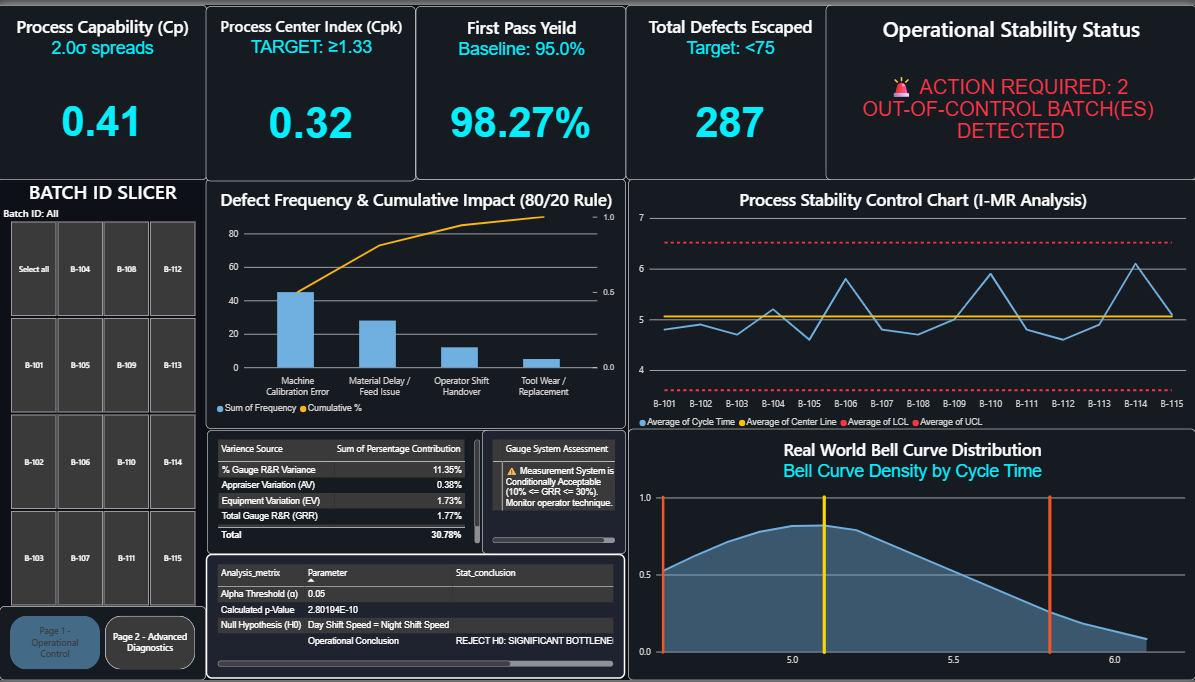

What the dashboard file says about the page in this screenshot:
{"tool":"powerbi","page":{"name":"Page 1 - Operational Control","canvas":[1920,1080],"ordinal":0},"visuals":[{"type":"lineChart","title":"Process Stability Control Chart (I-MR Analysis)","fields":{"Category":["Clean_Production_Log.Batch ID"],"Y":["Avg(Clean_Production_Log.Cycle Time)","Avg(Clean_Production_Log.Center Line)","Avg(Clean_Production_Log.LCL)","Avg(Clean_Production_Log.UCL )"]},"box":[1010,278,910,422],"z":0},{"type":"lineStackedColumnComboChart","title":"Defect Frequency & Cumulative Impact (80/20 Rule)","fields":{"Category":["Pareto_defect_Log.Defect Reason"],"Y":["Sum(Pareto_defect_Log.Frequency)"],"Y2":["Pareto_defect_Log.Cumulative %"]},"box":[334,278,672,400],"z":1000},{"type":"card","title":"Process Capability (Cp)","fields":{"Values":["Clean_Production_Log.Cp_Metric"]},"box":[0,0,336,280],"z":2000},{"type":"card","title":"Process Center Index (Cpk)","fields":{"Values":["Clean_Production_Log.Cpk_Metric"]},"box":[333.7,2.7,336.4,280.3],"z":3000},{"type":"card","title":"First Pass Yeild ","fields":{"Values":["Clean_Production_Log.FPY_Yield"]},"box":[669.9,2.1,337.1,277.3],"z":4000},{"type":"card","title":"Total Defects Escaped","fields":{"Values":["Sum(Clean_Production_Log.Defects Found)"]},"box":[1006.5,0,333.7,280.3],"z":5000},{"type":"card","title":"Operational Stability Status","fields":{"Values":["Clean_Production_Log.OCAP_Status"]},"box":[1326.8,0,592.7,280.3],"z":6000},{"type":"slicer","title":"BATCH ID SLICER","fields":{"Values":["Clean_Production_Log.Batch ID"]},"box":[2,278,334,684],"z":7000},{"type":"areaChart","title":"Real World Bell Curve Distribution","fields":{"Category":["Clean_Production_Log.Cycle Time"],"Y":["Clean_Production_Log.Bell Curve Density"]},"box":[1010,678,908,402],"z":8000},{"type":"tableEx","fields":{"Values":["T_Test_result.Analysis_metrix","T_Test_result.Parameter","T_Test_result.Stat_conclusion"]},"box":[334.3,878.6,671.4,200],"z":9000},{"type":"tableEx","fields":{"Values":["ANOVA_TEST_RESULTS.Varience Source","Sum(ANOVA_TEST_RESULTS.Persentage Contribution)"]},"box":[335.7,680,454.3,198.6],"z":10000},{"type":"pivotTable","fields":{"Values":["ANOVA_TEST_RESULTS.Gauge System Assessment"]},"box":[776,680,230,198],"z":11000},{"type":"pageNavigator","box":[4,962,330,118],"z":12000}]}

Visuals, with their boxes in screenshot pixels (x1, y1, x2, y2), scaled from the page's 1920x1080 canvas onto the 1195x682 screenshot:
"Process Stability Control Chart (I-MR Analysis)" lineChart: box(629, 176, 1194, 442)
"Defect Frequency & Cumulative Impact (80/20 Rule)" lineStackedColumnComboChart: box(208, 176, 626, 428)
"Process Capability (Cp)" card: box(0, 0, 209, 177)
"Process Center Index (Cpk)" card: box(208, 2, 417, 179)
"First Pass Yeild " card: box(417, 1, 627, 176)
"Total Defects Escaped" card: box(626, 0, 834, 177)
"Operational Stability Status" card: box(826, 0, 1194, 177)
"BATCH ID SLICER" slicer: box(1, 176, 209, 607)
"Real World Bell Curve Distribution" areaChart: box(629, 428, 1194, 681)
tableEx - T_Test_result.Analysis_metrix x T_Test_result.Parameter: box(208, 555, 626, 681)
tableEx - ANOVA_TEST_RESULTS.Varience Source x Sum(ANOVA_TEST_RESULTS.Persentage Contribution): box(209, 429, 492, 555)
pivotTable - ANOVA_TEST_RESULTS.Gauge System Assessment: box(483, 429, 626, 554)
pageNavigator: box(2, 607, 208, 681)
